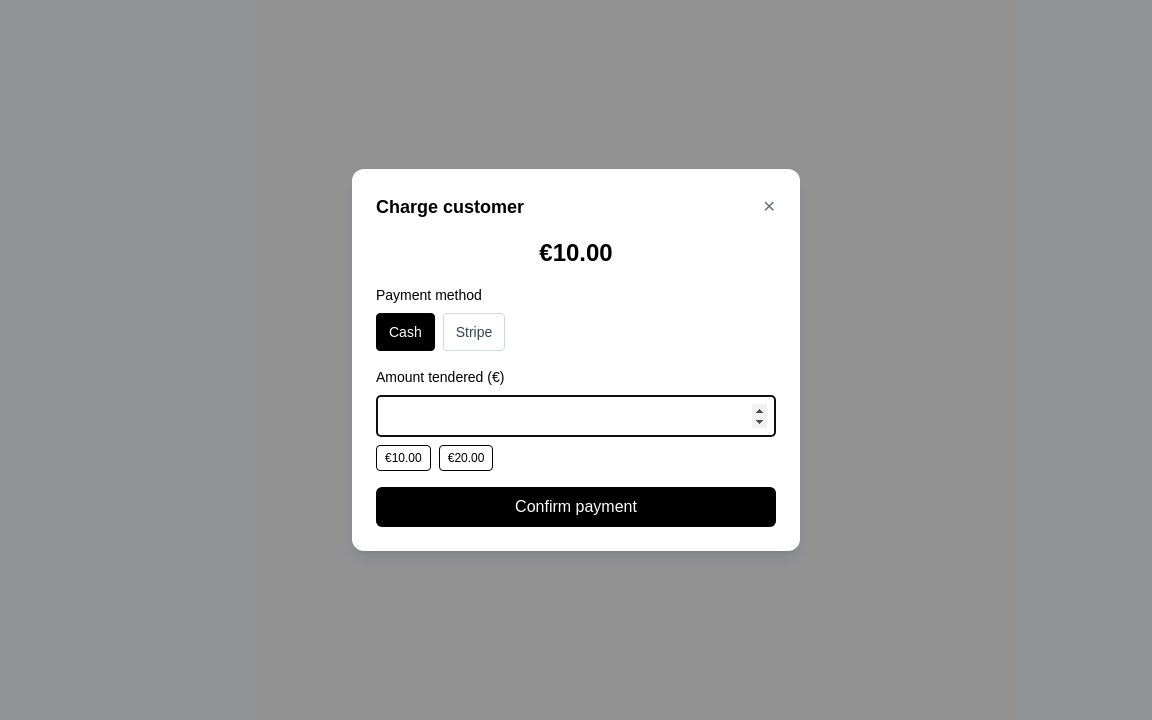
Test case: ChargeModal › rejects cash payment when amount tendered is less than the total
Type "5" into the number field.
click(576, 416); type("5")  # box [376,395,776,437]
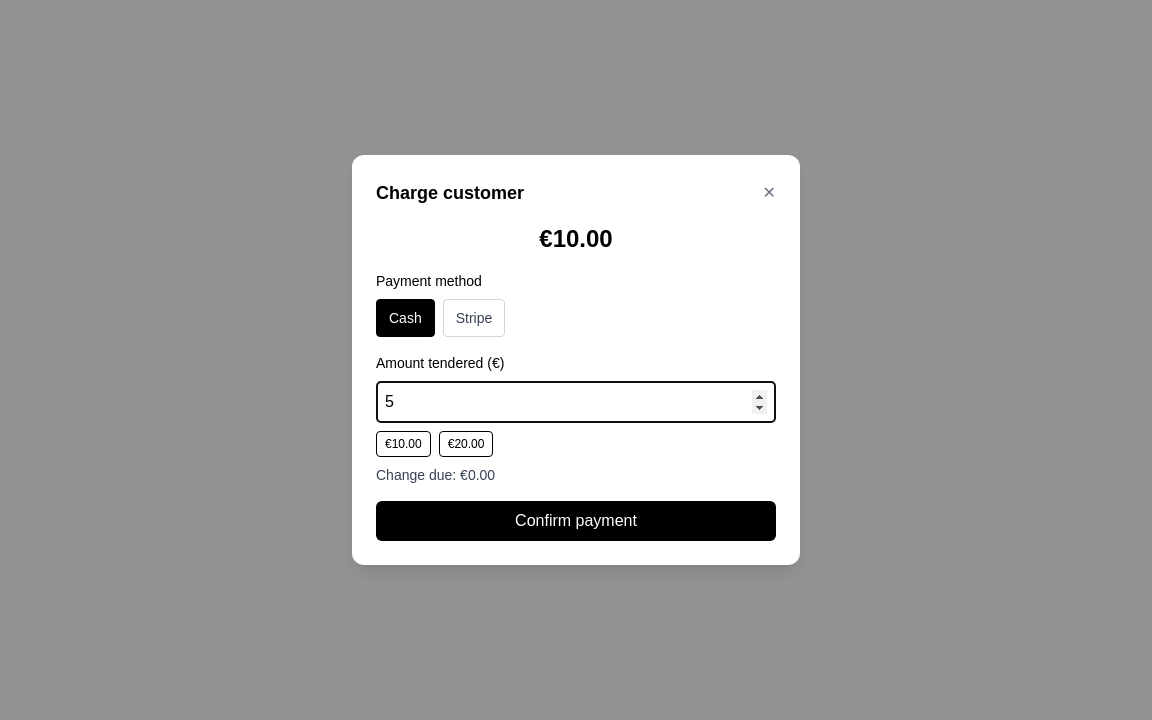
Click the button "Confirm payment".
click(576, 521)  # box [376,501,776,541]
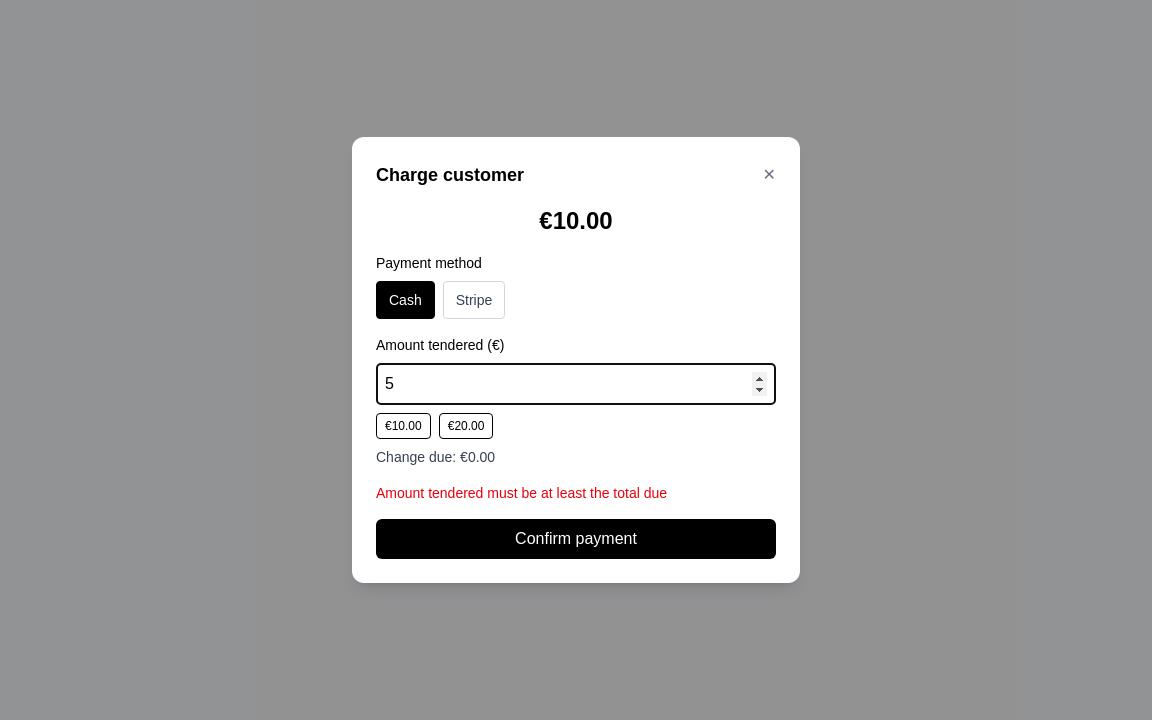
Check: the text "Amount tendered must be at least the total due" is shown, box [376,485,667,501]
